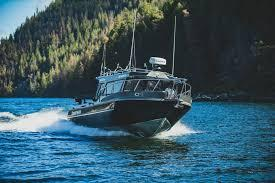fishing boat: (62, 9, 199, 140)
